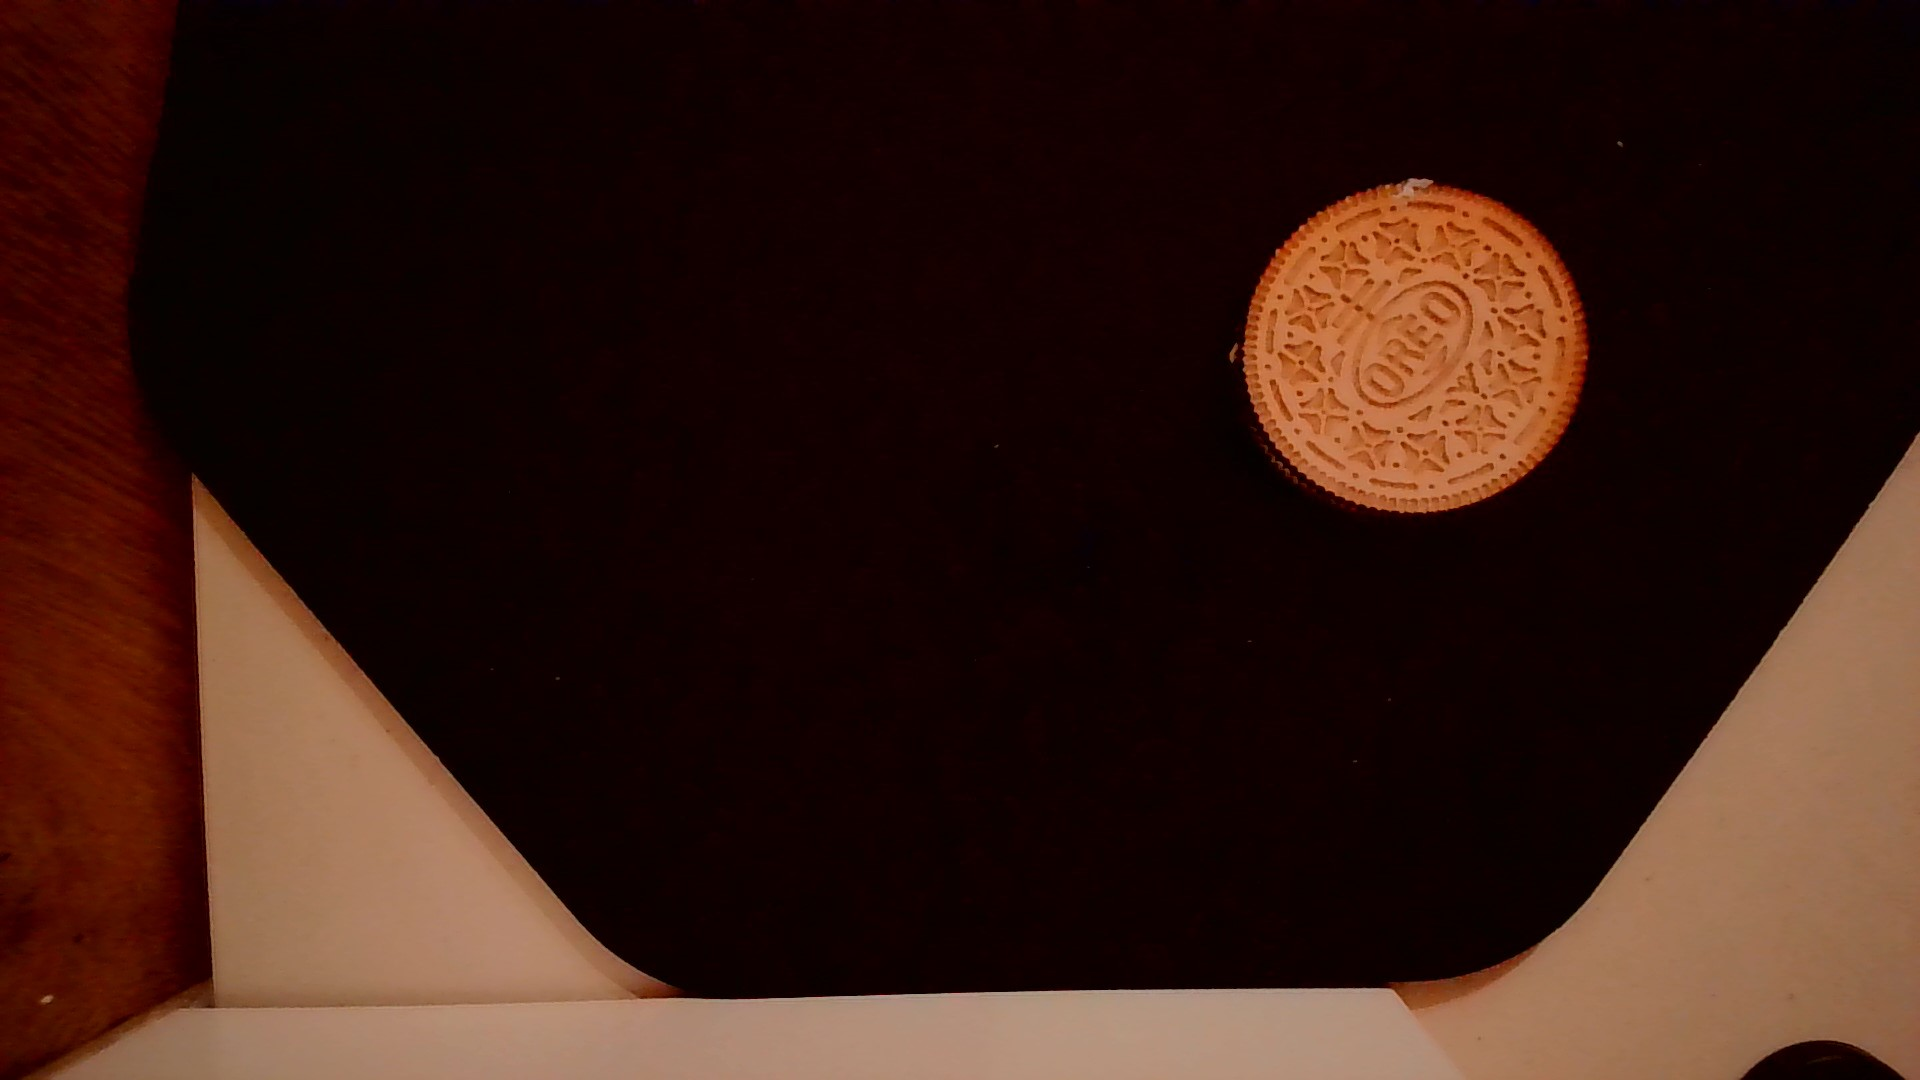Oréo: (1230, 170, 1597, 535)
